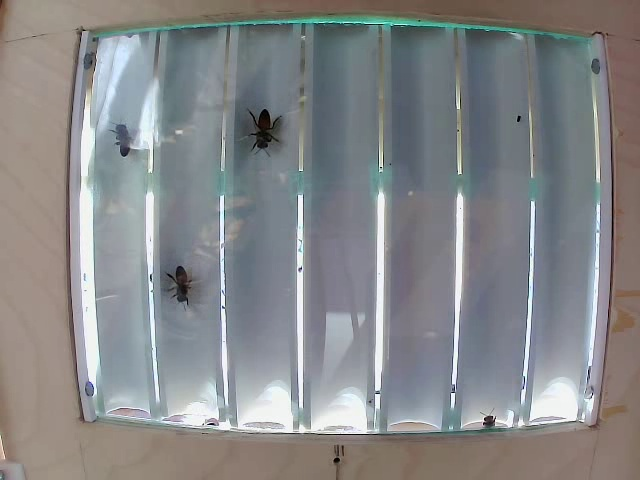bee: (239, 95, 286, 166), (156, 258, 208, 306), (93, 125, 144, 165)
